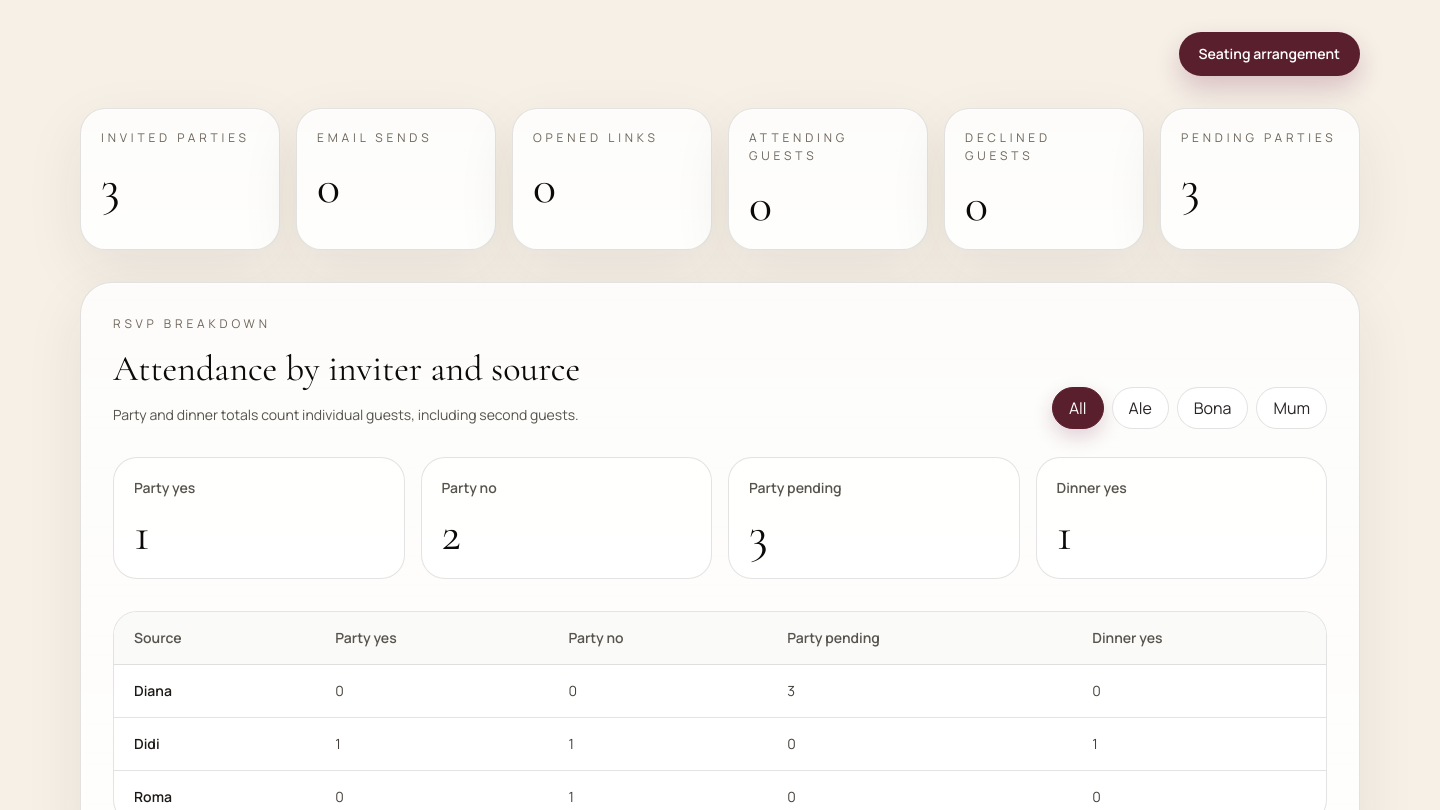
Test case: HostDashboard › filters RSVP totals by inviter and breaks them down by source
Expected: the element with test id "rsvp-total-party-yes" shows "1", [134,505,150,563]
Expected: the element with test id "rsvp-total-party-no" shows "2", [442,505,461,563]
Click the button "Ale": point(1140, 408) [1112,387,1169,429]
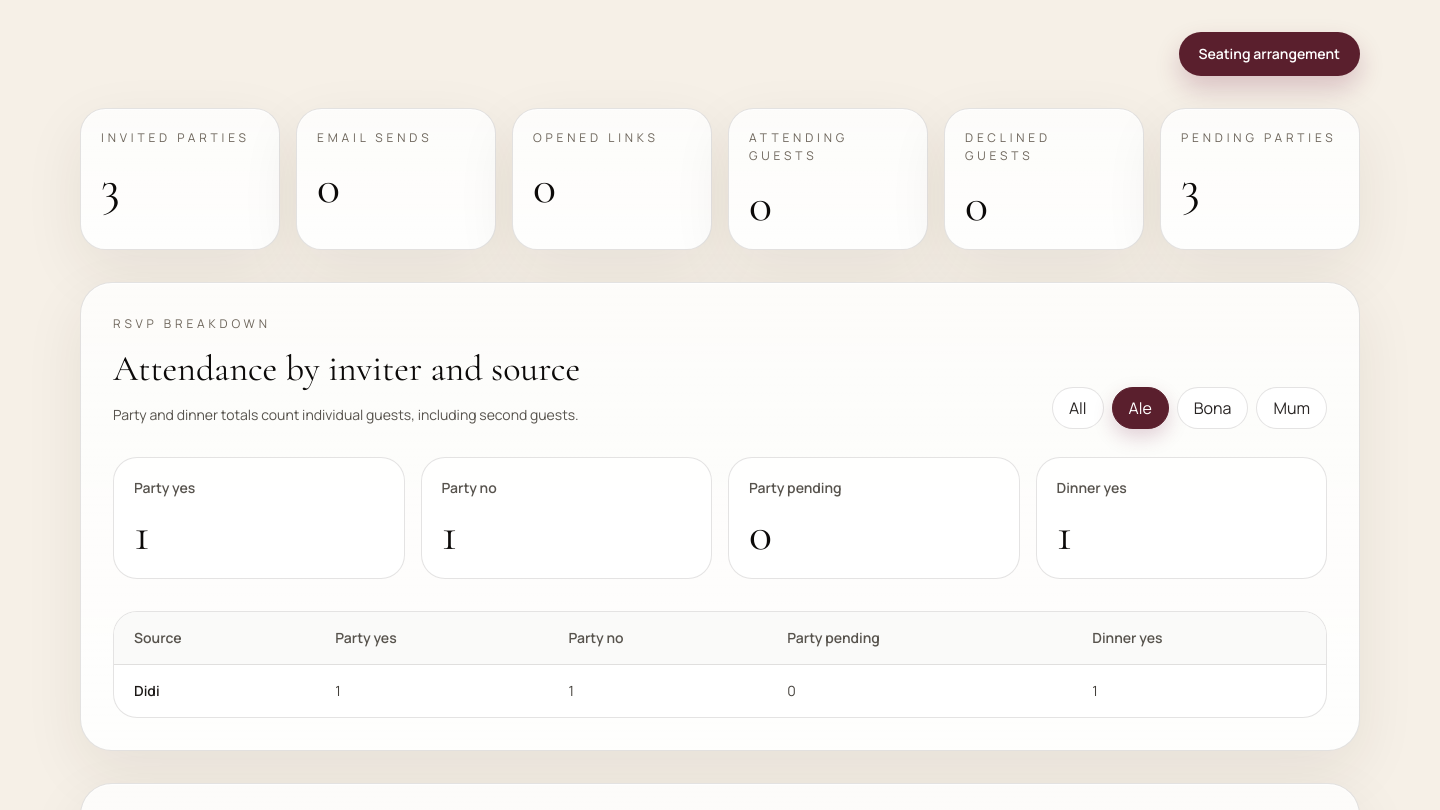
Expected: the element with test id "rsvp-total-party-yes" shows "1", [134,505,150,563]
Expected: the element with test id "rsvp-total-party-no" shows "1", [442,505,457,563]
Expected: the element with test id "rsvp-total-party-pending" shows "0", [749,505,772,563]
Click the button "Mum": point(1292, 408) [1256,387,1327,429]
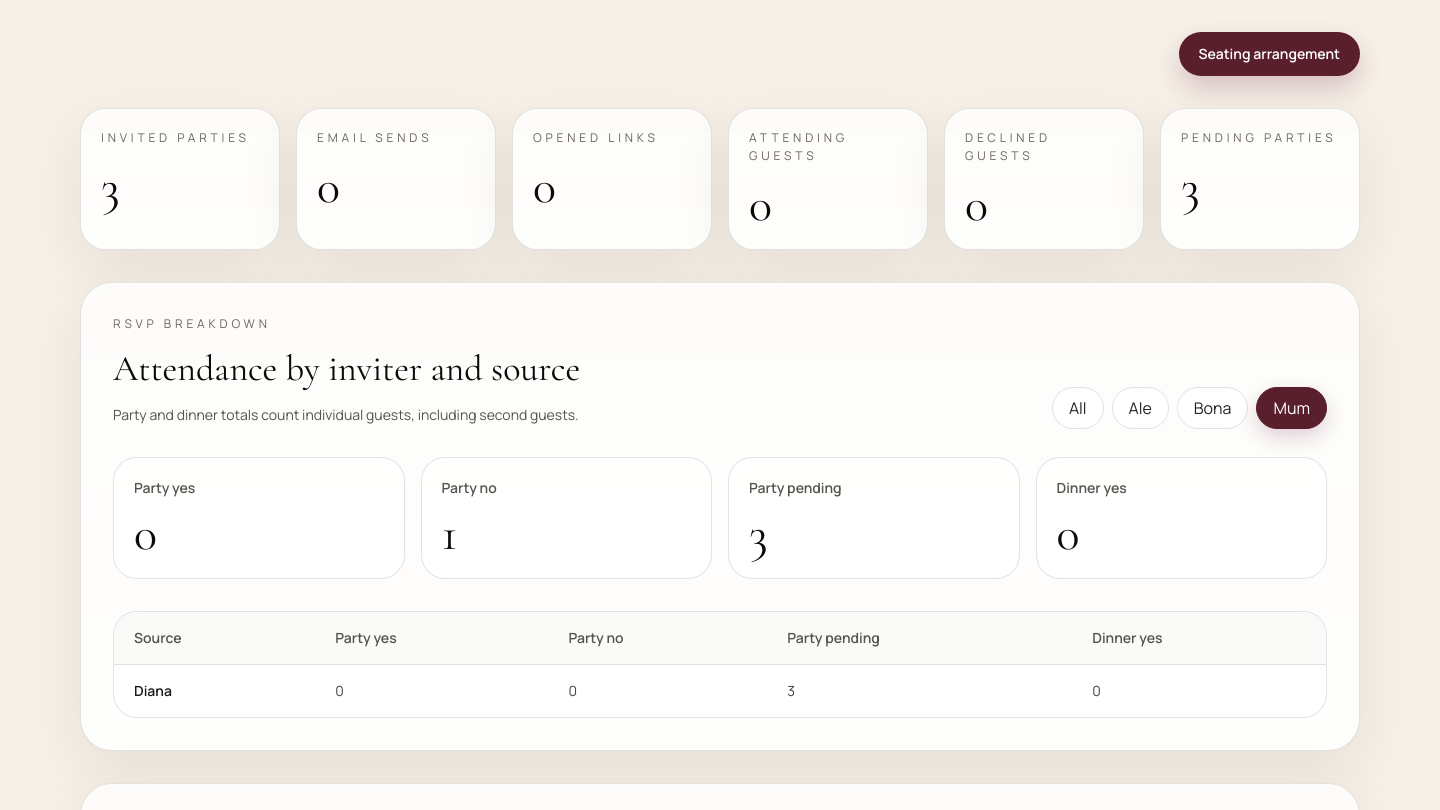
Expected: the element with test id "rsvp-total-party-no" shows "1", [442,505,457,563]
Expected: the element with test id "rsvp-total-party-yes" shows "0", [134,505,157,563]
Expected: the element with test id "rsvp-total-party-pending" shows "3", [749,505,768,563]
